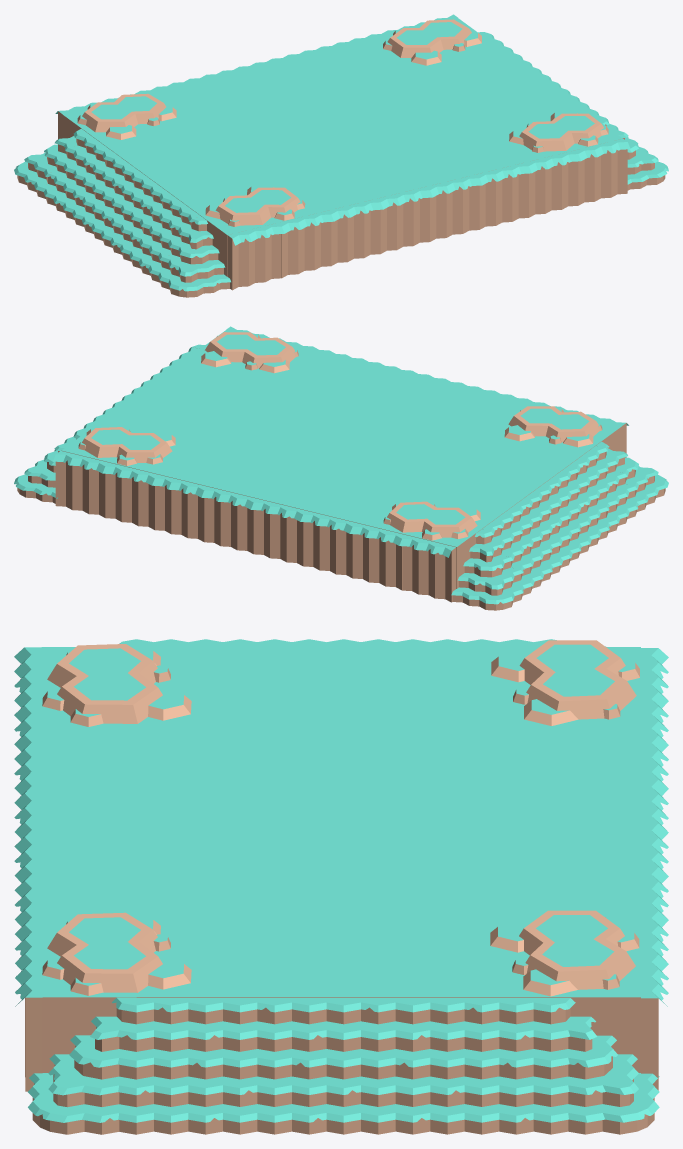
Rendered from BigIsland.fbx.
The picture shows the model from 3 angles, top to bottom: view 1: azimuth 30°, elevation 25°; view 2: azimuth 150°, elevation 25°; view 3: azimuth 270°, elevation 25°; orthographic projection. The views are drawn at different scales.
Visible parts, largest first — view 1: cliff_block_rock.005, cliff_top_rock.001, cliff_steps_rock.001, platform_grass.003, platform_grass.001, platform_grass.002, platform_grass.004, cliff_stepsCorner_rock.001, cliff_top_rock.008; view 2: cliff_block_rock.005, cliff_top_rock.008, cliff_steps_rock.001, platform_grass.002, platform_grass.004, platform_grass.003, platform_grass.001, cliff_stepsCorner_rock.003, cliff_top_rock.001; view 3: cliff_block_rock.005, cliff_steps_rock.004, cliff_steps_rock.005, cliff_steps_rock.002, cliff_steps_rock.003, cliff_stepsCorner_rock.001, cliff_stepsCorner_rock.003, cliff_top_rock.001, cliff_top_rock.008, platform_grass.001, platform_grass.003, platform_grass.002 (+2 smaller).
Boxes of the visible parts, <box> form: cliff_block_rock.005: <box>62,18,622,276</box>; cliff_top_rock.001: <box>227,138,630,290</box>; cliff_steps_rock.001: <box>14,128,230,297</box>; platform_grass.003: <box>77,93,176,139</box>; platform_grass.001: <box>383,19,481,65</box>; platform_grass.002: <box>509,110,608,152</box>; platform_grass.004: <box>205,184,305,226</box>; cliff_stepsCorner_rock.001: <box>597,117,668,190</box>; cliff_top_rock.008: <box>55,14,457,139</box>; cliff_block_rock.005: <box>61,330,621,588</box>; cliff_top_rock.008: <box>53,451,456,602</box>; cliff_steps_rock.001: <box>451,441,668,610</box>; platform_grass.002: <box>201,332,298,373</box>; platform_grass.004: <box>504,406,602,447</box>; platform_grass.003: <box>383,501,480,540</box>; platform_grass.001: <box>78,426,175,465</box>; cliff_stepsCorner_rock.003: <box>14,430,85,503</box>; cliff_top_rock.001: <box>226,326,628,457</box>; cliff_block_rock.005: <box>41,647,640,1072</box>; cliff_steps_rock.004: <box>343,998,447,1134</box>; cliff_steps_rock.005: <box>136,998,240,1134</box>; cliff_steps_rock.002: <box>447,998,550,1134</box>; cliff_steps_rock.003: <box>240,998,343,1134</box>; cliff_stepsCorner_rock.001: <box>28,997,136,1134</box>; cliff_stepsCorner_rock.003: <box>551,998,659,1134</box>; cliff_top_rock.001: <box>14,647,42,1091</box>; cliff_top_rock.008: <box>641,648,668,1090</box>; platform_grass.001: <box>490,910,639,996</box>; platform_grass.003: <box>491,640,639,725</box>; platform_grass.002: <box>42,912,191,995</box>.
Bounding box in the file's own units: 1006 × 118 × 631.
